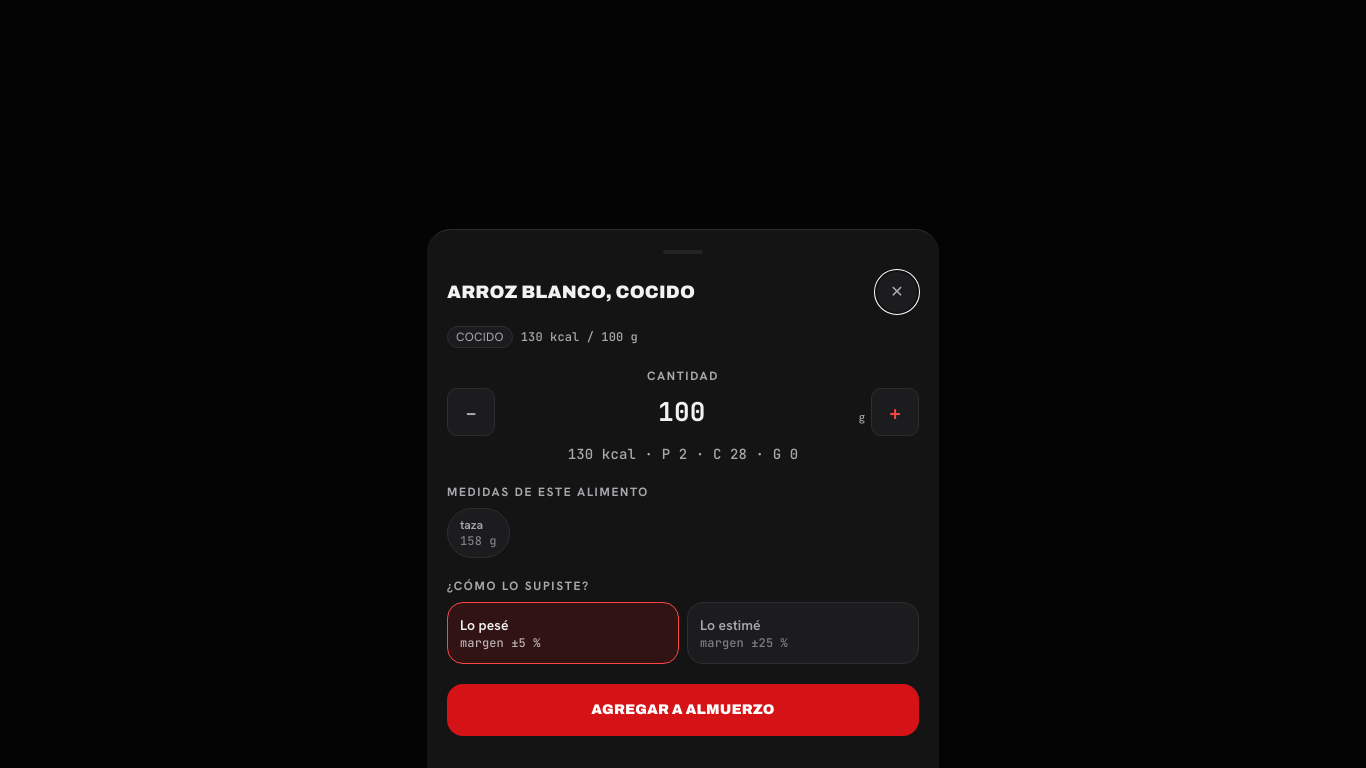
it: SheetCantidad › recalcula las calorías al cambiar los gramos
Click the button named "Subir Cantidad": (895, 412) [871,388,919,436]
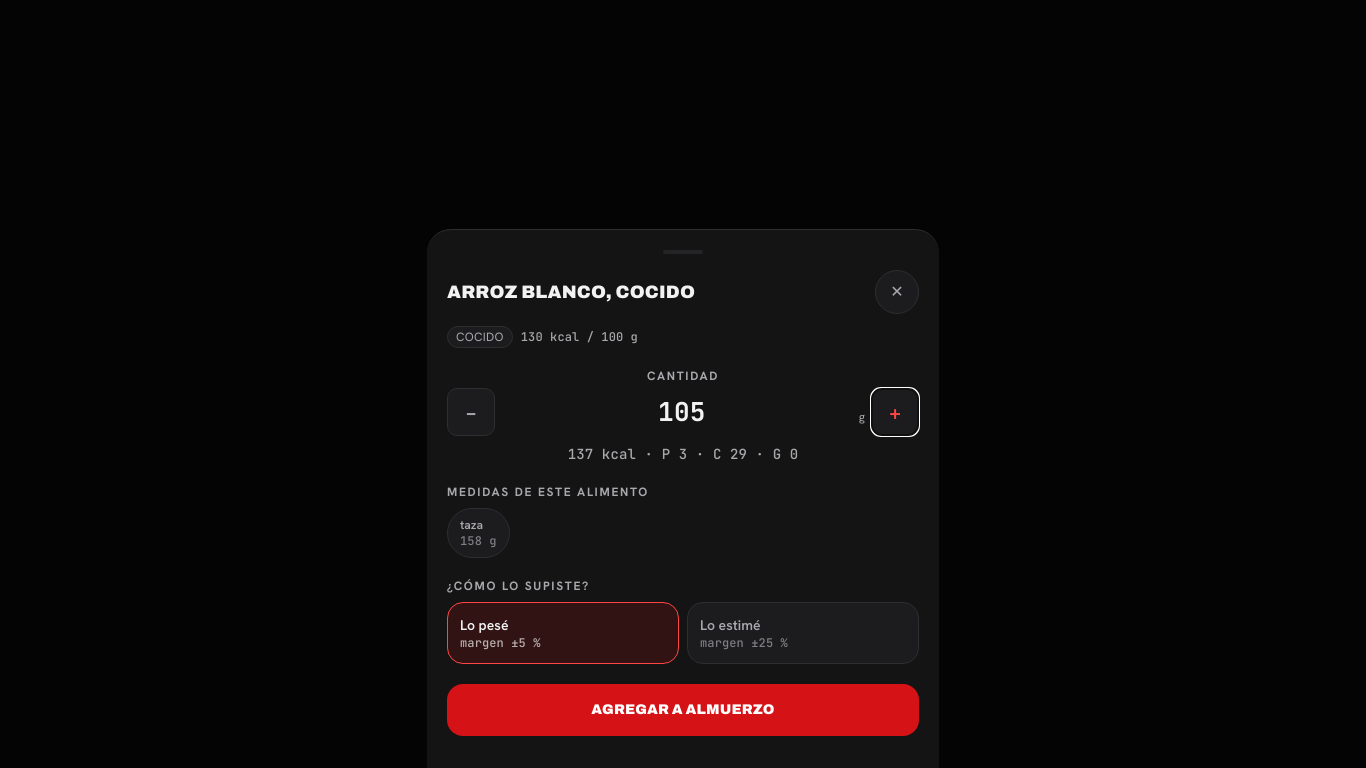
Check: the field named "Cantidad en g" holds "105", box [501,390,863,434]
Check: the text "137 kcal · P 3 · C 29 · G 0" is shown, box [568,445,798,463]
